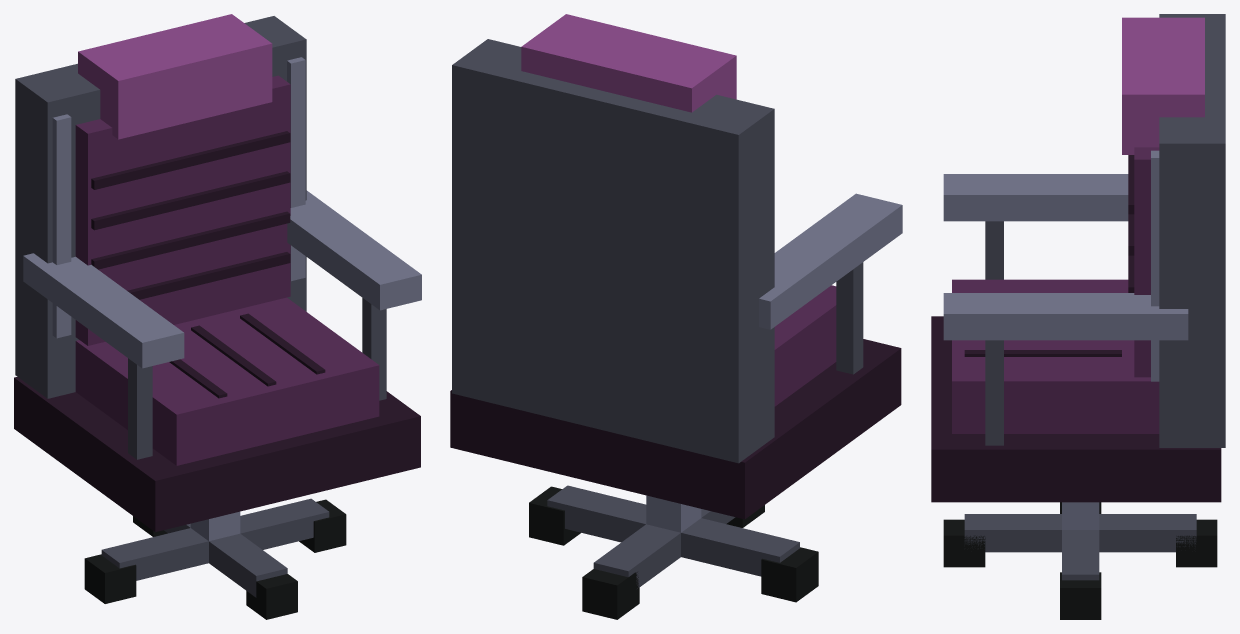
Rendered from CMU3DComfyChairCharlie.glb.
The picture shows the model from 3 angles, left to right: view 1: azimuth 30°, elevation 25°; view 2: azimuth 150°, elevation 25°; view 3: azimuth 270°, elevation 25°; orthographic projection. The views are drawn at different scales.
Visible parts, largest first — view 1: back cushion, seat cushion, seat base, back shell, headrest, upholstery rib (×4), left arm pad, right arm pad, back edge piping (×2), caster cross X, caster wheel (×3), arm front stanchion (×2) (+3 smaller); view 2: back shell, seat base, headrest, left arm pad, caster cross X, caster wheel (×3), seat cushion, caster cross Y, arm front stanchion, chrome swivel stem; view 3: back shell, seat base, seat cushion, right arm pad, headrest, left arm pad, caster cross Y, caster wheel (×3), back cushion, arm front stanchion (×2), caster cross X, back edge piping (+3 smaller).
Boxes of the visible parts, x1,y1,x2,y2 form: back cushion: (75,75,290,345); seat cushion: (75,297,379,465); seat base: (14,377,420,531); back shell: (15,16,306,398); headrest: (78,14,272,139); upholstery rib (×4): (91,131,290,299); left arm pad: (23,253,184,368); right arm pad: (287,190,421,310); back edge piping (×2): (52,57,305,338); caster cross X: (101,498,329,580); caster wheel (×3): (84,499,346,619); arm front stanchion (×2): (128,298,386,459); back shell: (452,39,774,463); seat base: (450,339,901,519); headrest: (521,14,736,112); left arm pad: (759,193,902,329); caster cross X: (547,485,799,576); caster wheel (×3): (529,486,818,619); seat cushion: (774,285,836,406); caster cross Y: (593,509,735,588); arm front stanchion: (836,262,863,374); chrome swivel stem: (646,495,701,532); back shell: (1159,14,1225,447); seat base: (931,316,1221,502); seat cushion: (952,279,1159,433); right arm pad: (943,293,1188,340); headrest: (1122,17,1204,154); left arm pad: (943,174,1128,221); caster cross Y: (964,514,1196,552); caster wheel (×3): (943,519,1217,619); back cushion: (1134,147,1159,377); arm front stanchion (×2): (985,221,1003,445); caster cross X: (1062,530,1099,580); back edge piping: (1151,150,1159,381).
Bounding box in the file's own units: 0.8 × 1.34 × 0.71.
